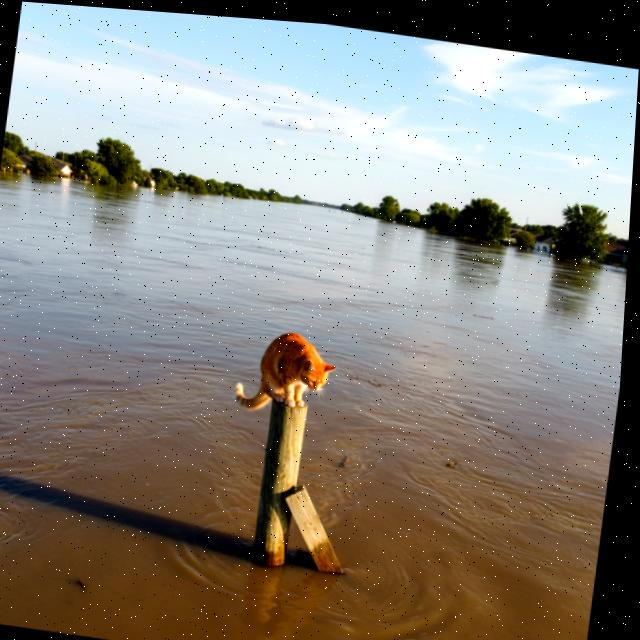cat: (223, 315, 346, 429)
